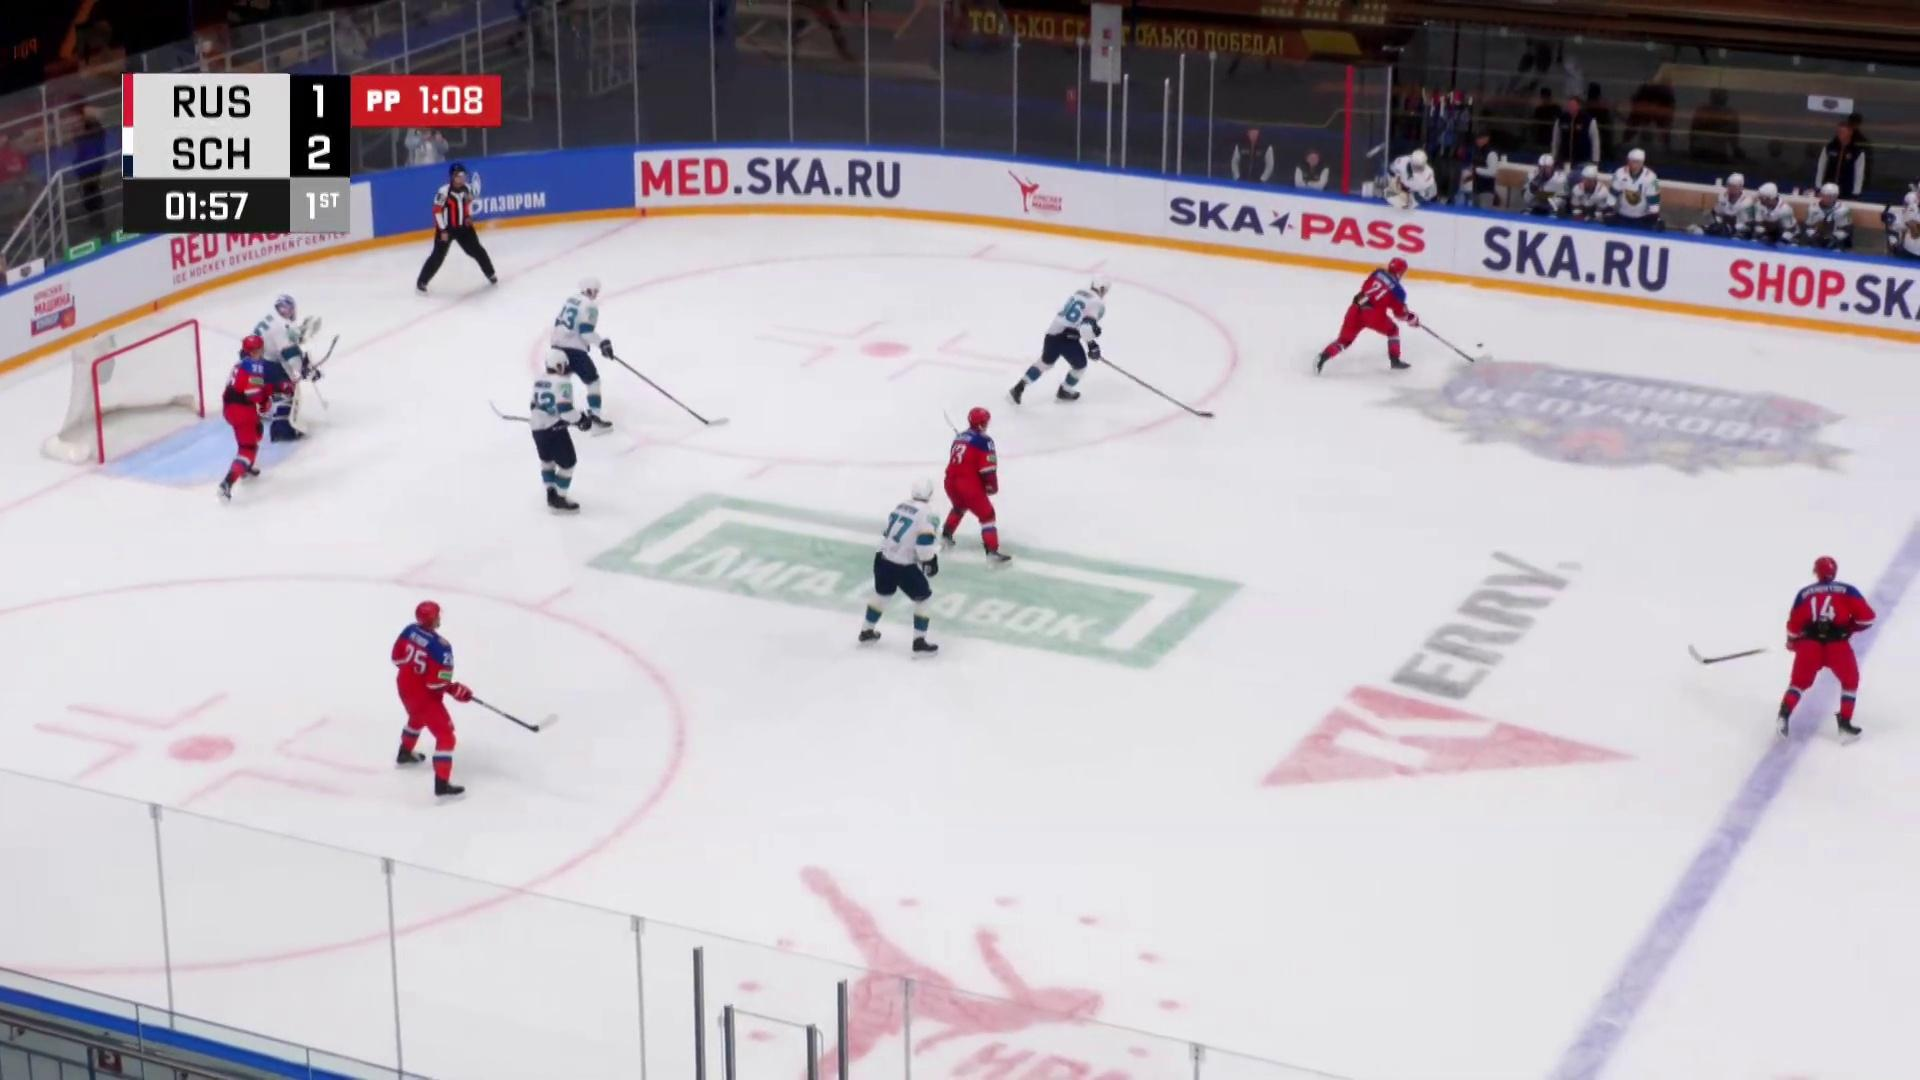ball: (1476, 343, 1484, 348)
